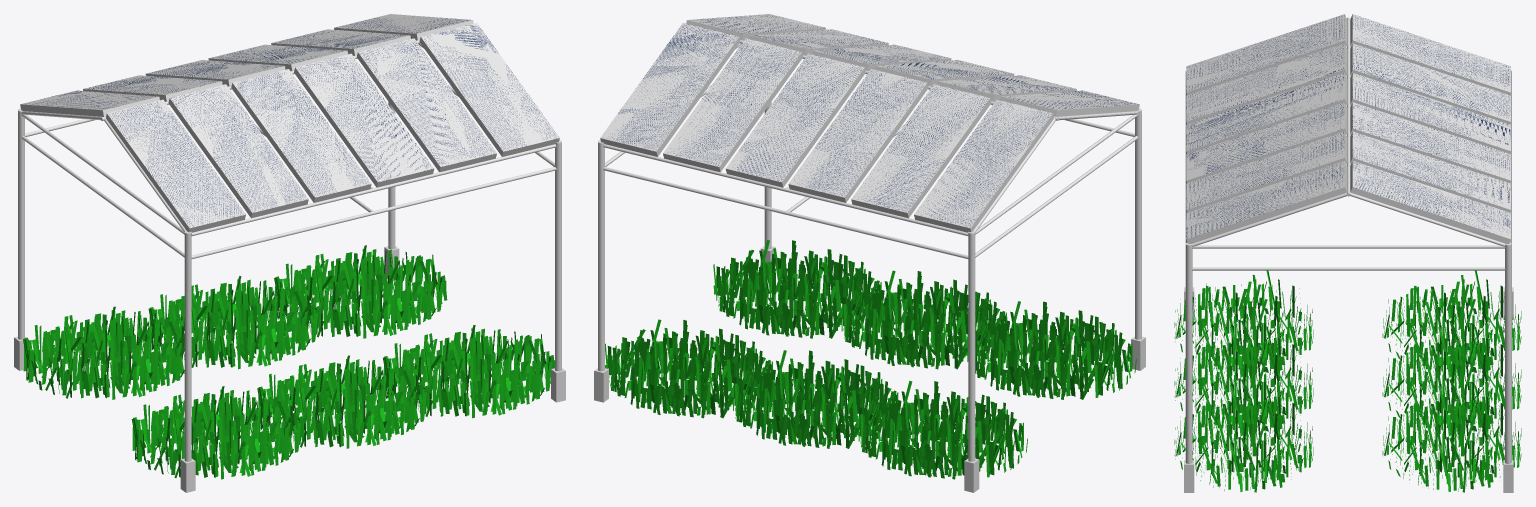
The model's file is agiSolarGrass3.glb.
3 renders of one model, left to right at view 1: azimuth 30°, elevation 25°; view 2: azimuth 150°, elevation 25°; view 3: azimuth 270°, elevation 25°, orthographic. The views are drawn at different scales.
Parts seen in each view (by area): view 1: Trava Kolosok.022, Trava Kolosok.003, Trava Kolosok.004, Trava Kolosok.001, Trava Kolosok.002, Trava Kolosok.005, Cube.017, Cube.014, Cube.015, Cube.009, Cube.008, Cube.001 (+13 smaller); view 2: Trava Kolosok.003, Trava Kolosok.001, Trava Kolosok.004, Trava Kolosok.022, Trava Kolosok.005, Trava Kolosok.002, Cube.016, Cube.005, Cube.003, Cube.006, Cube.004, Cube.007 (+13 smaller); view 3: Trava Kolosok.001, Trava Kolosok.004, Trava Kolosok.003, Trava Kolosok.022, Trava Kolosok.002, Trava Kolosok.005, Cube.008, Cube.004, Cube.009, Cube.017, Cube.015, Cube.001 (+13 smaller).
Boxes of the visible parts, x1=… form: Trava Kolosok.022: x1=23, y1=306, x2=195, y2=399; Trava Kolosok.003: x1=131, y1=386, x2=304, y2=479; Trava Kolosok.004: x1=274, y1=245, x2=447, y2=338; Trava Kolosok.001: x1=383, y1=325, x2=554, y2=418; Trava Kolosok.002: x1=257, y1=355, x2=429, y2=448; Trava Kolosok.005: x1=148, y1=276, x2=320, y2=369; Cube.017: x1=168, y1=84, x2=308, y2=218; Cube.014: x1=294, y1=53, x2=434, y2=187; Cube.015: x1=231, y1=69, x2=371, y2=202; Cube.009: x1=356, y1=38, x2=496, y2=172; Cube.008: x1=419, y1=23, x2=559, y2=156; Cube.001: x1=106, y1=99, x2=245, y2=232; Trava Kolosok.003: x1=964, y1=301, x2=1136, y2=399; Trava Kolosok.001: x1=713, y1=240, x2=881, y2=338; Trava Kolosok.004: x1=605, y1=319, x2=772, y2=418; Trava Kolosok.022: x1=855, y1=380, x2=1027, y2=479; Trava Kolosok.005: x1=730, y1=350, x2=902, y2=448; Trava Kolosok.002: x1=838, y1=270, x2=1007, y2=369; Cube.016: x1=851, y1=84, x2=991, y2=218; Cube.005: x1=725, y1=53, x2=865, y2=187; Cube.003: x1=788, y1=69, x2=928, y2=202; Cube.006: x1=663, y1=38, x2=803, y2=172; Cube.004: x1=600, y1=23, x2=740, y2=156; Cube.007: x1=914, y1=99, x2=1053, y2=232; Trava Kolosok.001: x1=1174, y1=385, x2=1313, y2=492; Trava Kolosok.004: x1=1382, y1=385, x2=1521, y2=492; Trava Kolosok.003: x1=1174, y1=270, x2=1313, y2=374; Trava Kolosok.022: x1=1382, y1=270, x2=1521, y2=373; Trava Kolosok.002: x1=1174, y1=326, x2=1313, y2=433; Trava Kolosok.005: x1=1382, y1=326, x2=1521, y2=432; Cube.008: x1=1186, y1=160, x2=1347, y2=243; Cube.004: x1=1350, y1=161, x2=1510, y2=243; Cube.009: x1=1186, y1=131, x2=1347, y2=212; Cube.017: x1=1186, y1=43, x2=1347, y2=124; Cube.015: x1=1186, y1=72, x2=1347, y2=153; Cube.001: x1=1186, y1=14, x2=1347, y2=94.
Bounding box in the file's own units: 6.5 × 4.83 × 5.
Materials: 30 (12 with a texture image).
